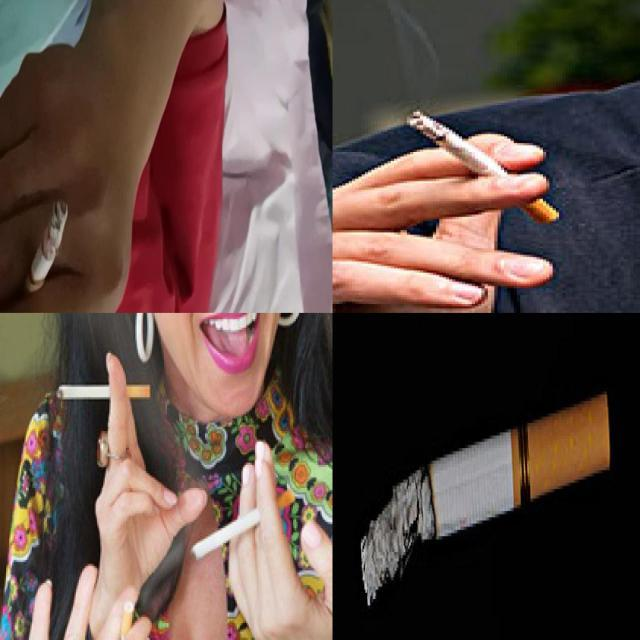smoking: (358, 389, 610, 609), (403, 108, 561, 224), (188, 488, 295, 556), (22, 200, 70, 304), (56, 380, 150, 400)
